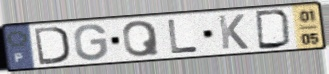D: (32, 25, 72, 67), (254, 9, 294, 51)
G: (73, 22, 110, 62)
K: (216, 13, 251, 51)
L: (165, 18, 199, 55)
Q: (121, 19, 162, 59)
